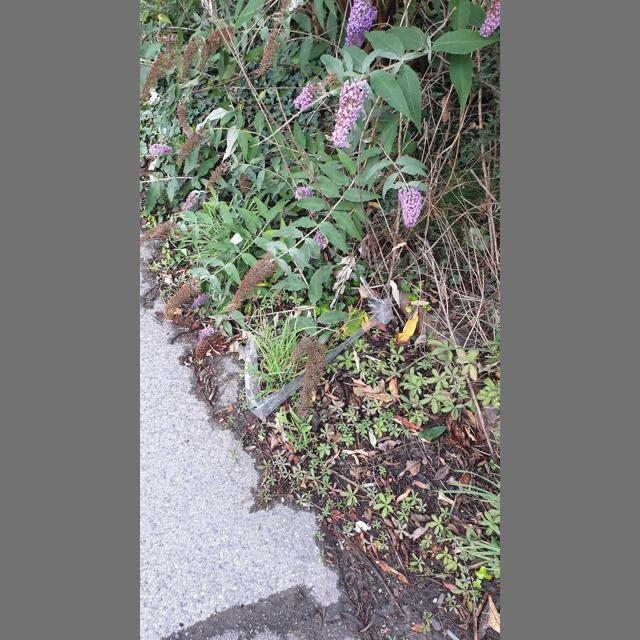litter: (245, 274, 393, 421)
